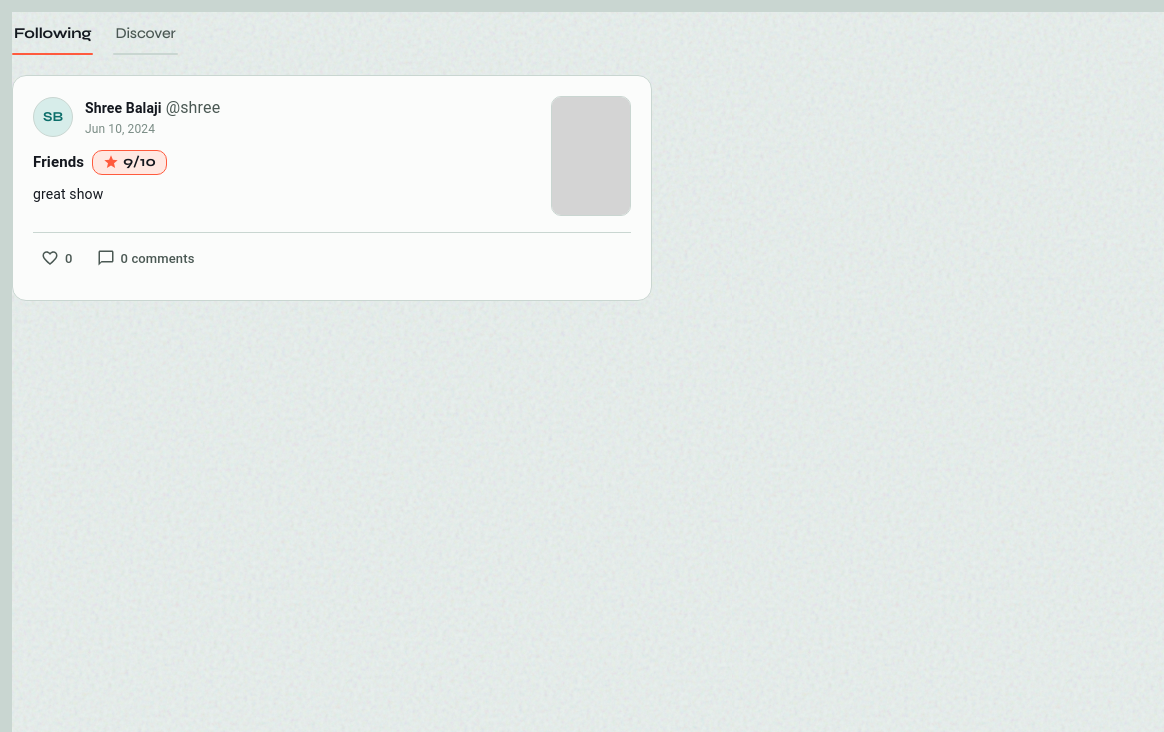
Test: Home › shows discover ratings when a logged in user switches tabs
This screenshot has width=1164, height=732.
Expected: the text "great show" is shown, x1=33 y1=186 x2=103 y2=202
Click the button "Discover" at (146, 33), box x1=113 y1=12 x2=178 y2=54
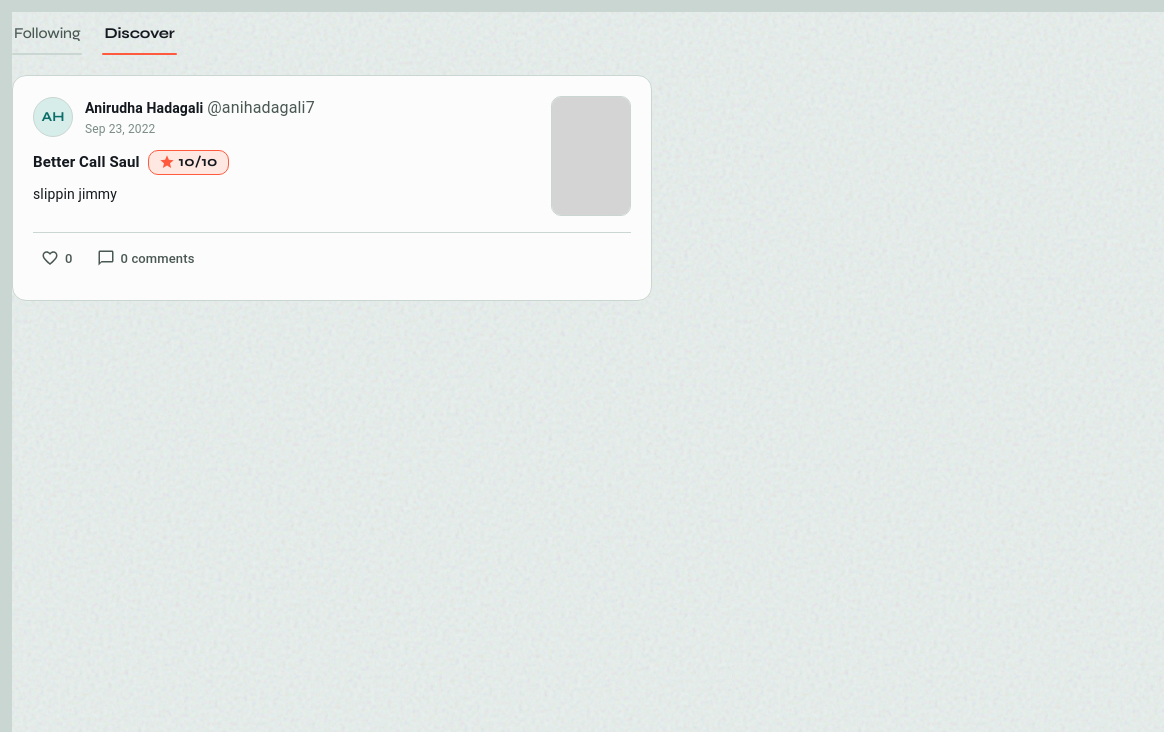
Result: the text "slippin jimmy" is shown at x1=33 y1=186 x2=117 y2=202
Result: the text "great show" is gone
